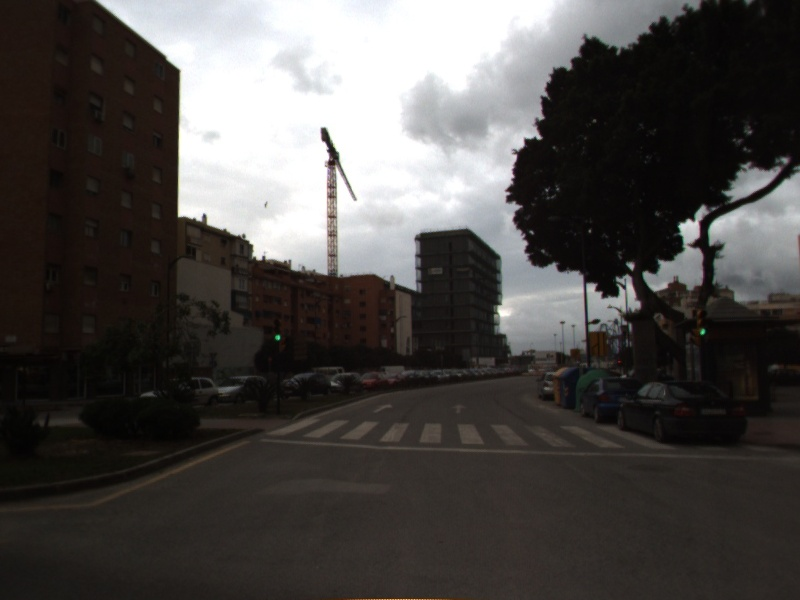STRAIGHT: (371, 402, 395, 415), (450, 402, 469, 415)
